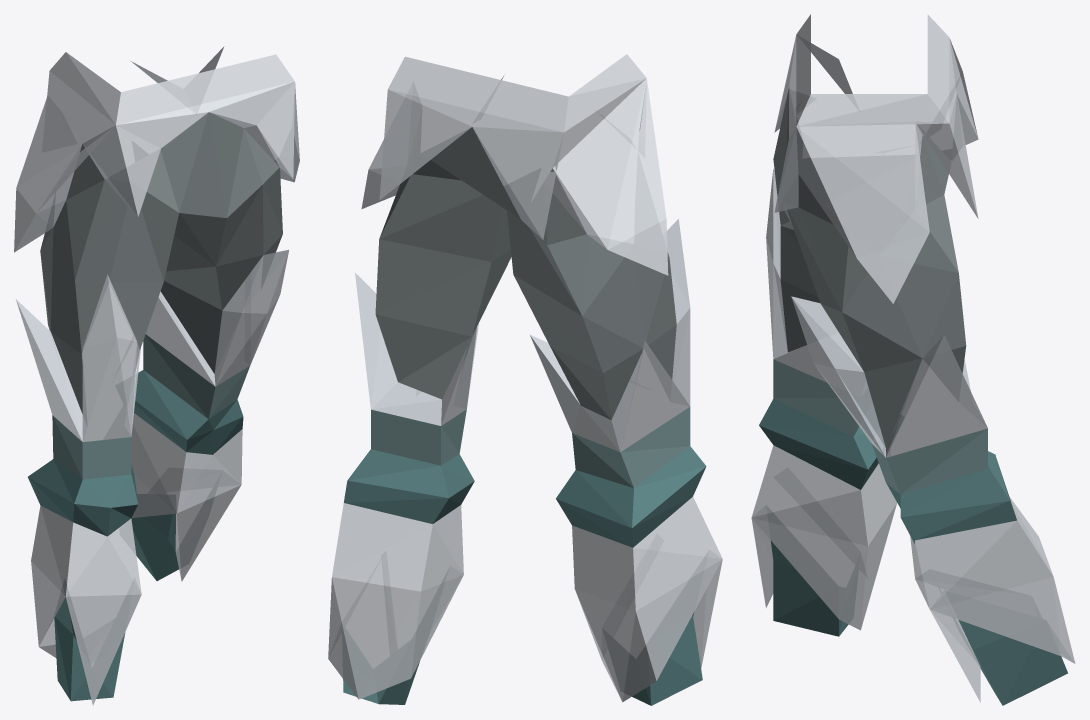
File: player_crystal_legs.glb
The picture shows the model from 3 angles, left to right: view 1: azimuth 30°, elevation 25°; view 2: azimuth 150°, elevation 25°; view 3: azimuth 270°, elevation 25°; orthographic projection. The views are drawn at different scales.
Size of the model in its own units: 47.85 by 94.83 by 44.45.
Materials: 2 (2 with a texture image).
